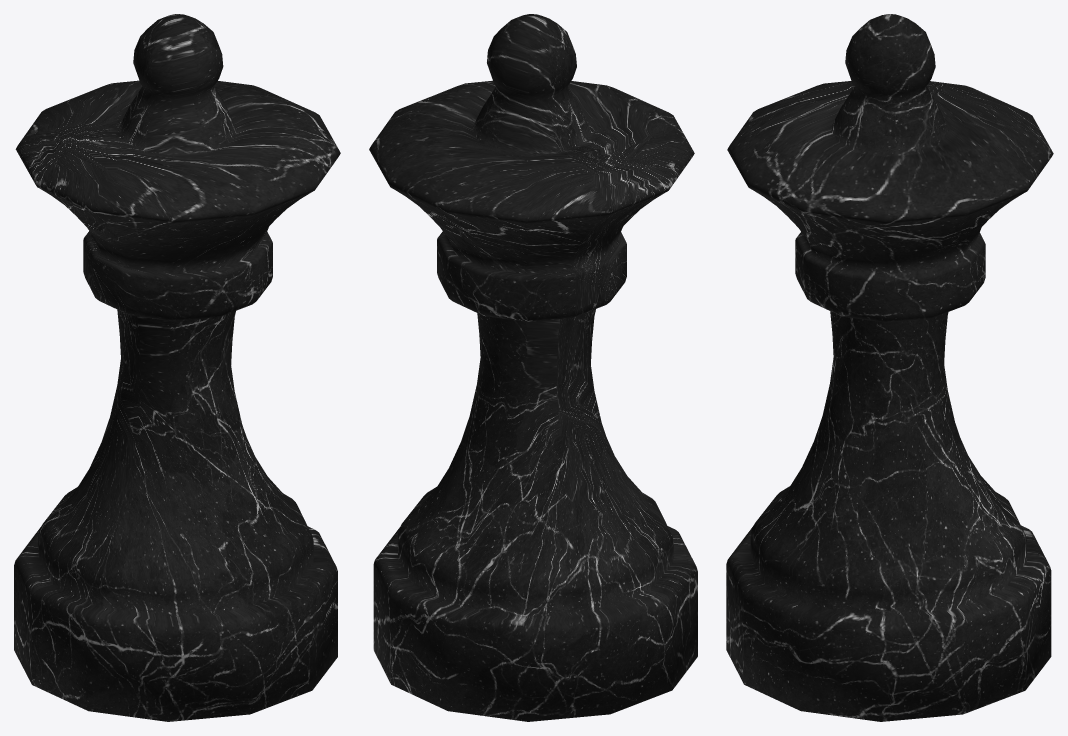
The model's file is ReinaNegro.glb.
The picture shows the model from 3 angles, left to right: view 1: azimuth 30°, elevation 25°; view 2: azimuth 150°, elevation 25°; view 3: azimuth 270°, elevation 25°; orthographic projection.
Parts seen in each view (by area): view 1: Reina; view 2: Reina; view 3: Reina.
Boxes of the visible parts, x1,y1,x2,y2 form: Reina: (14, 14, 340, 721); Reina: (369, 14, 697, 721); Reina: (726, 14, 1053, 721).
Bounding box in the file's own units: 0.7122 × 1.52 × 0.7081.
Materials: 1 (1 with a texture image).
